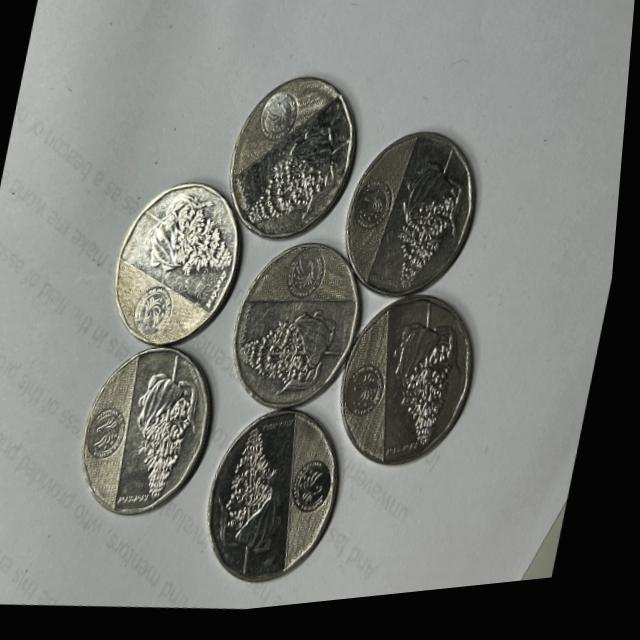10_New_Back: (241, 116, 360, 261), (120, 183, 250, 313), (383, 158, 479, 311), (123, 353, 214, 513), (234, 299, 361, 410), (381, 332, 471, 472), (225, 435, 296, 581)
